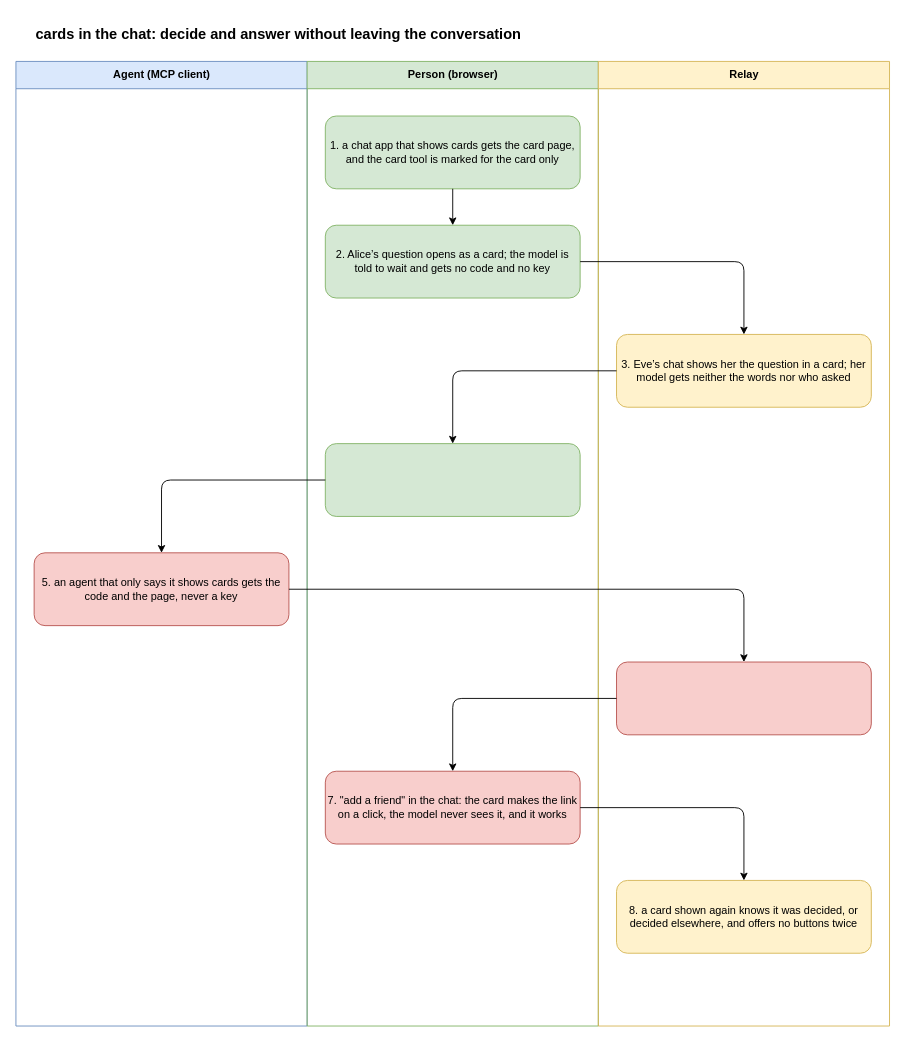
Some shapes in this 905 by 1042 pixel diagram are drawn without their labels. Each missing label, with the centre of its shape:
"4. a client without cards gets the code and the page, as before" goes at pixel 452 479.
"6. a refused answer leaves the card usable; a card offers only its own buttons" goes at pixel 743 698.
